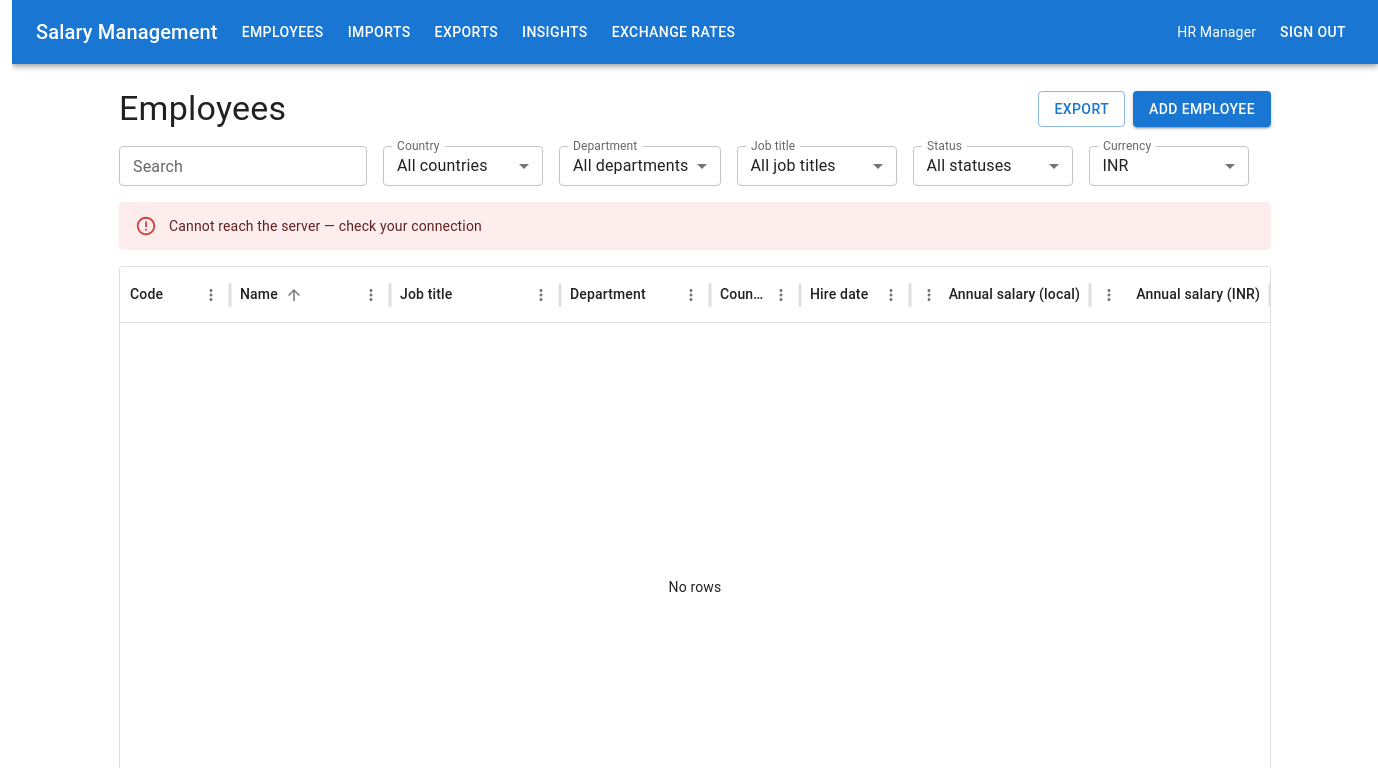
Scenario: protected routes › signs out and returns to the login page
The width and height of the screenshot is (1378, 768).
Step 1. Click the button "Sign out" → (1313, 32), box [1272,14,1354,50]
(page scrolled)
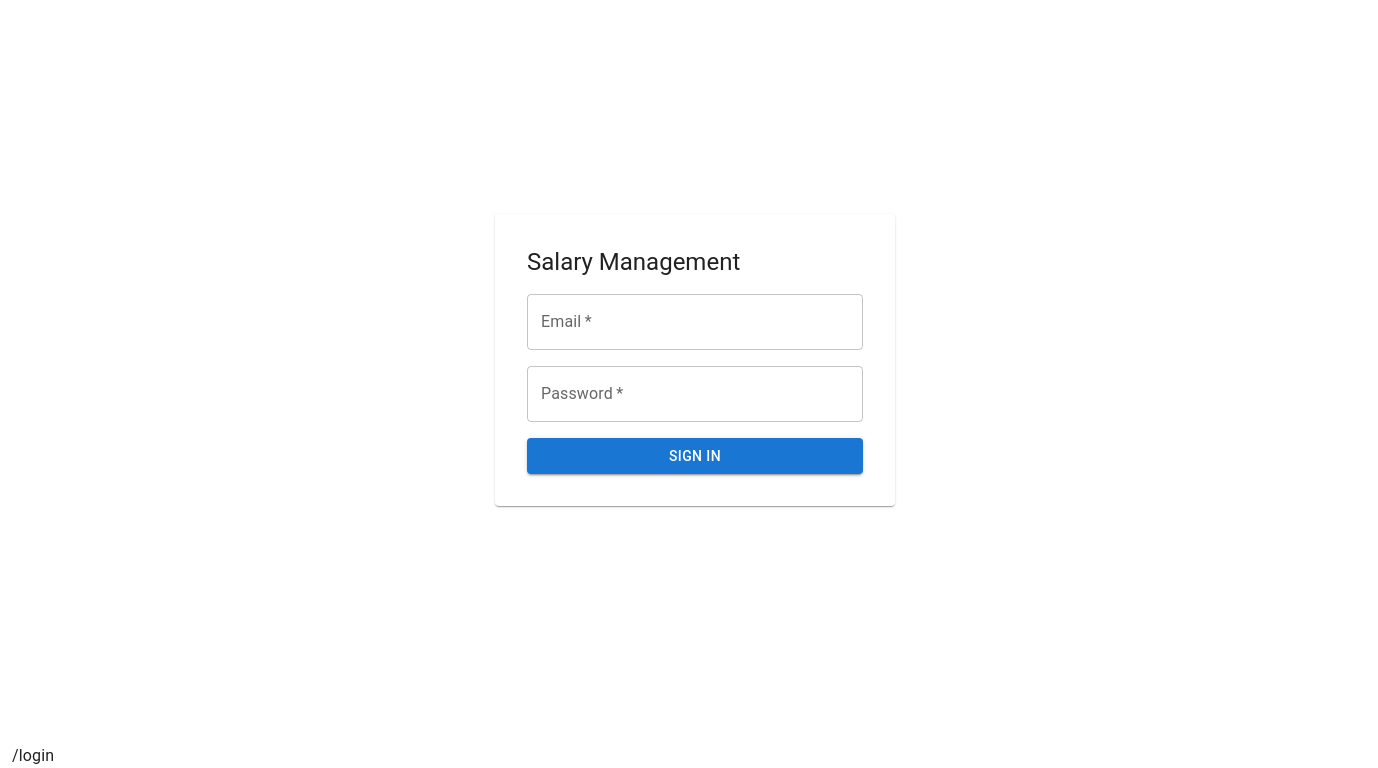
Result: the text with test id "location" reads "/login" at [12,746,54,765]
